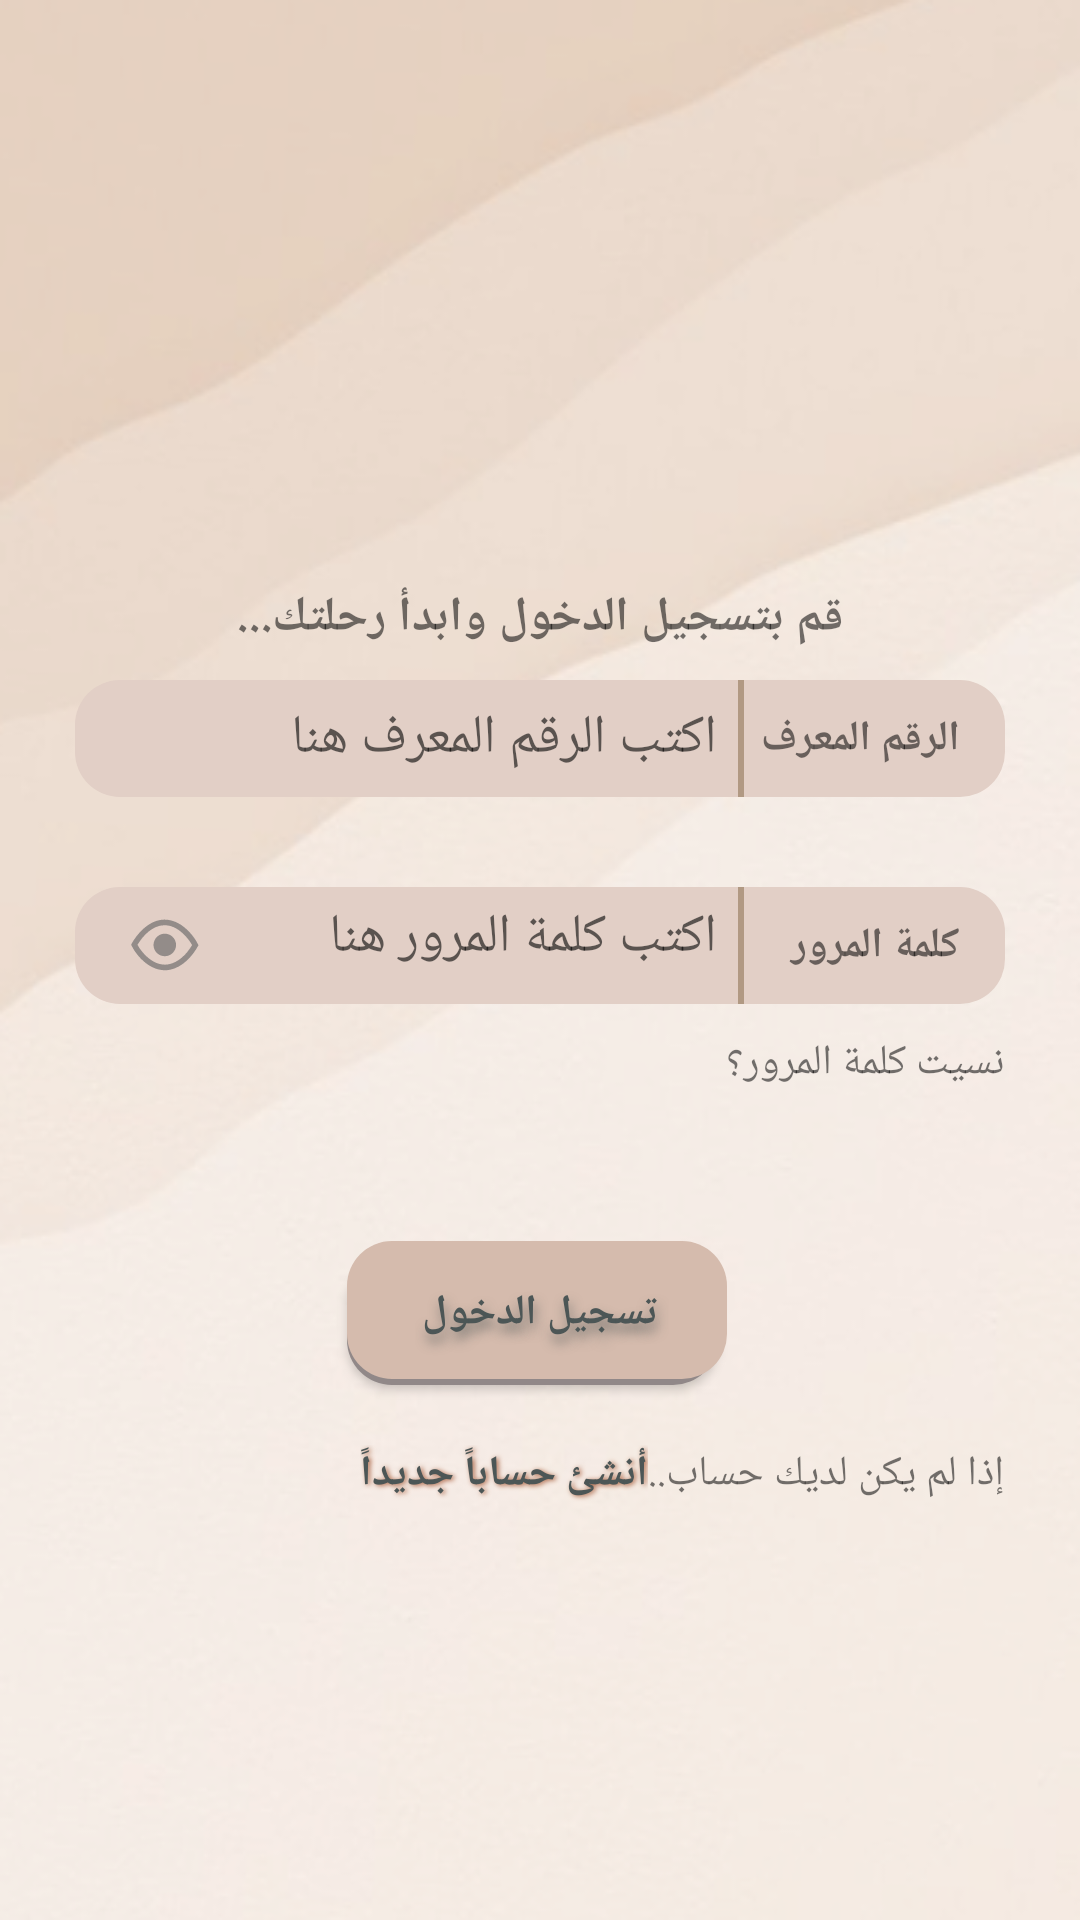

Screen size 1080×1920. Icon name, then its box in pixels as {"left": x1, "top": y1, "right": x2, "bottom": y2}:
eye visible pass: {"left": 131, "top": 919, "right": 199, "bottom": 970}
